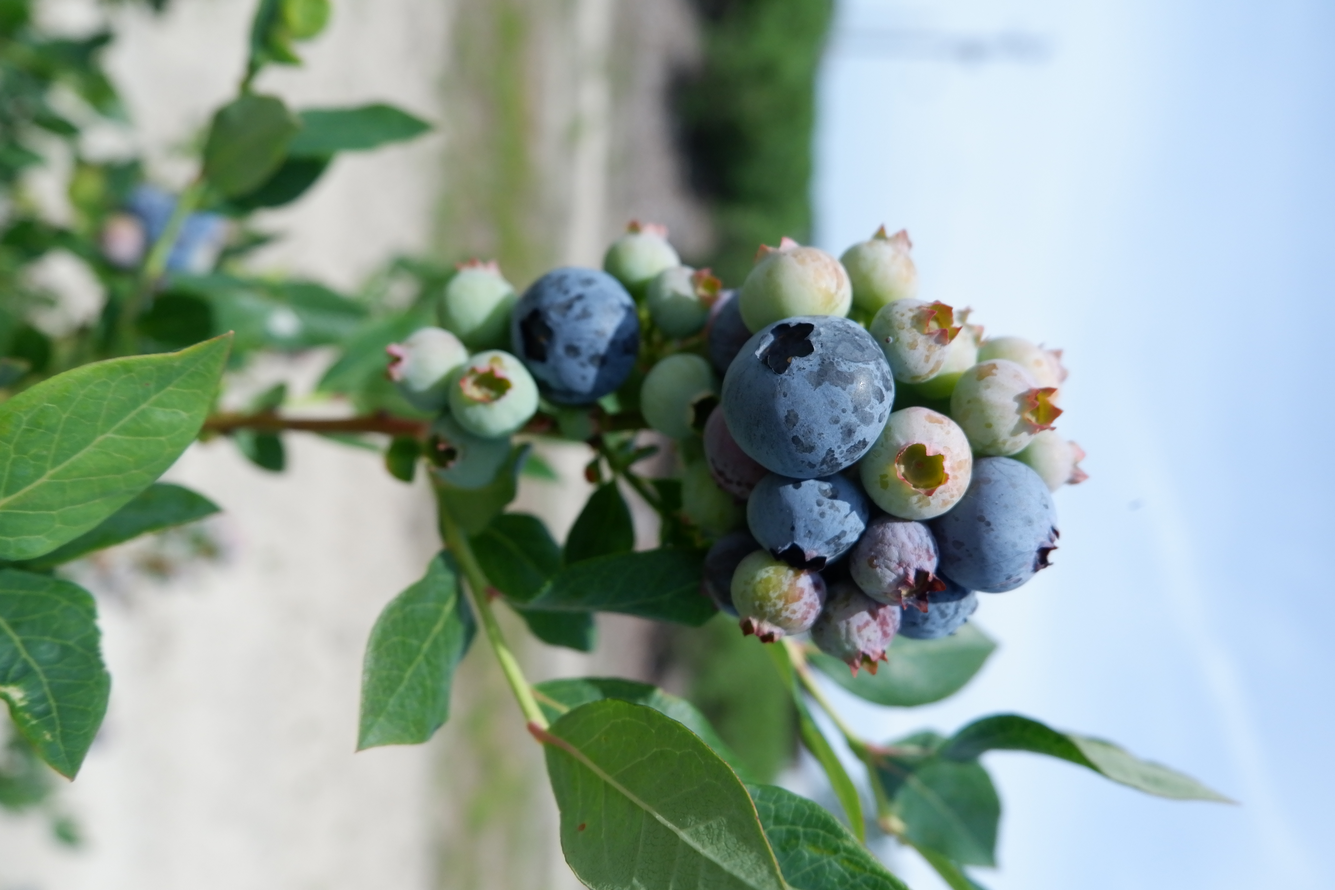Immature: (864, 410, 971, 517), (953, 363, 1059, 454), (743, 241, 851, 329), (813, 570, 899, 671), (869, 297, 963, 387), (901, 308, 988, 400), (735, 555, 824, 641), (449, 351, 536, 436), (851, 521, 939, 605), (443, 260, 515, 347), (846, 225, 916, 312), (388, 330, 465, 408), (642, 358, 717, 437), (430, 411, 507, 485), (707, 410, 772, 497), (606, 222, 679, 292), (647, 269, 719, 337), (683, 460, 742, 535), (980, 338, 1068, 386), (1013, 438, 1087, 488)
Mature: (725, 318, 893, 478), (514, 268, 638, 401), (932, 458, 1056, 590), (753, 477, 866, 565), (702, 529, 763, 616), (901, 579, 978, 639), (708, 290, 745, 366)
